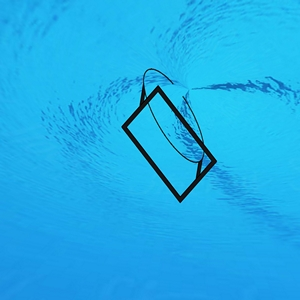circle: (120, 66, 230, 204)
